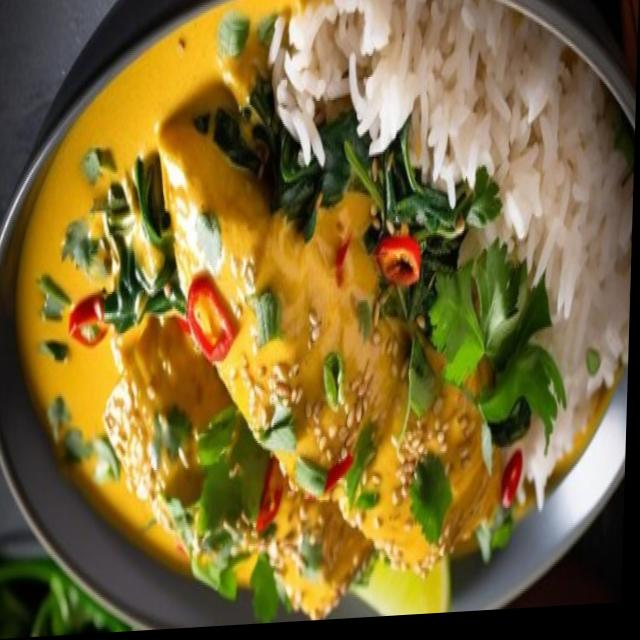FISH CURRY: (21, 0, 505, 611)
RICE: (267, 0, 633, 513)
